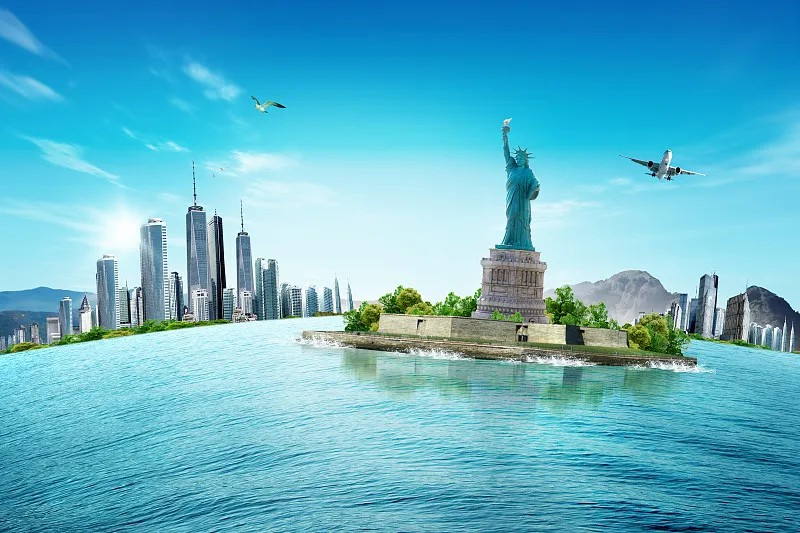SL: (471, 116, 550, 325)
